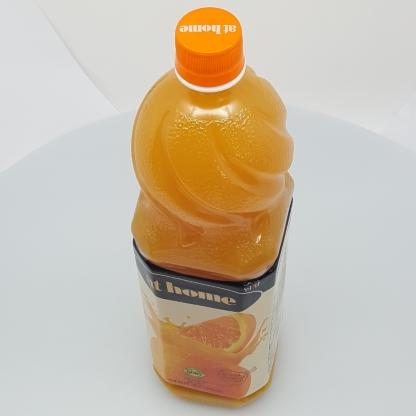-------1-5L: (131, 7, 294, 408)
